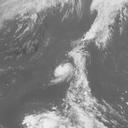cyclone: (48, 61, 87, 91)
